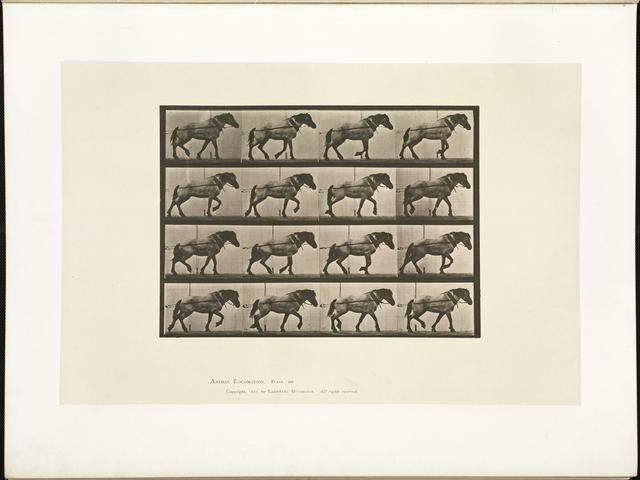horse: (319, 275, 406, 323), (248, 165, 325, 218), (168, 111, 250, 159)
